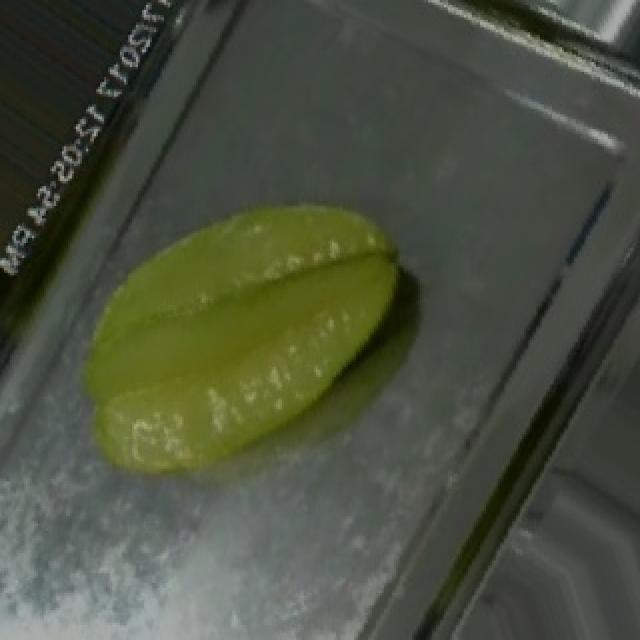fruit: (36, 126, 462, 524)
